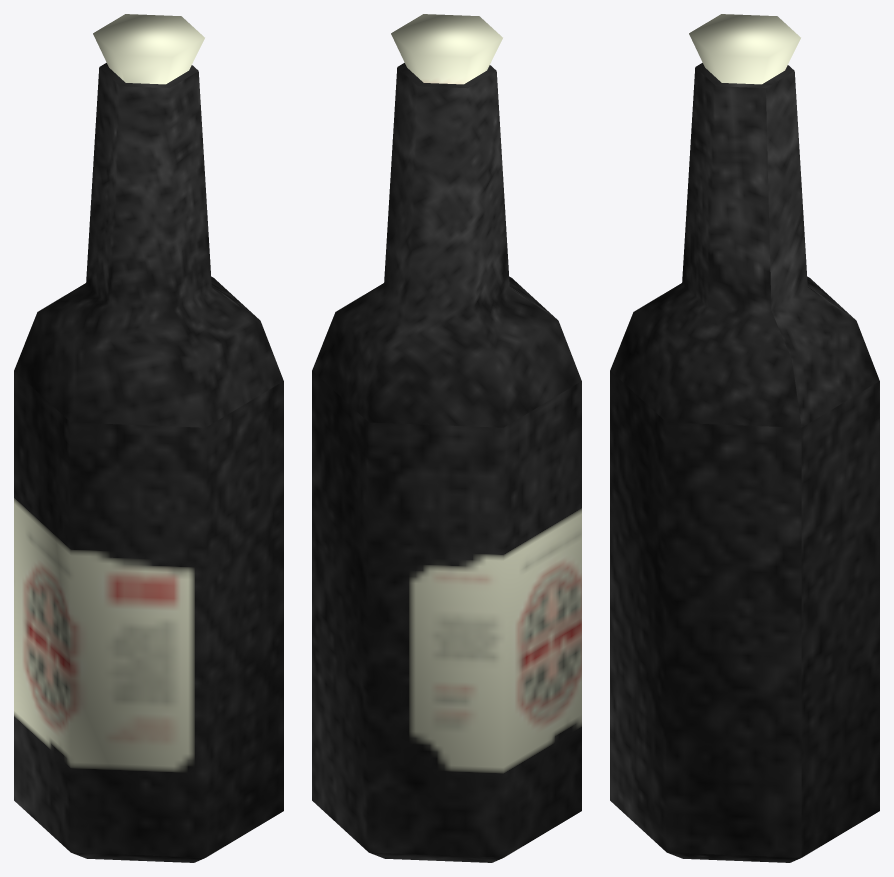
Rendered from Bottle.fbx.
The picture shows the model from 3 angles, left to right: view 1: azimuth 30°, elevation 25°; view 2: azimuth 150°, elevation 25°; view 3: azimuth 270°, elevation 25°; orthographic projection.
Visible parts, largest first — view 1: Cylinder; view 2: Cylinder; view 3: Cylinder.
Boxes of the visible parts, x1,y1,x2,y2 form: Cylinder: (14,14,283,862); Cylinder: (312,14,581,862); Cylinder: (610,14,879,862).
Bounding box in the file's own units: 17.07 × 60.2 × 18.72.
Materials: 1 (1 with a texture image).
